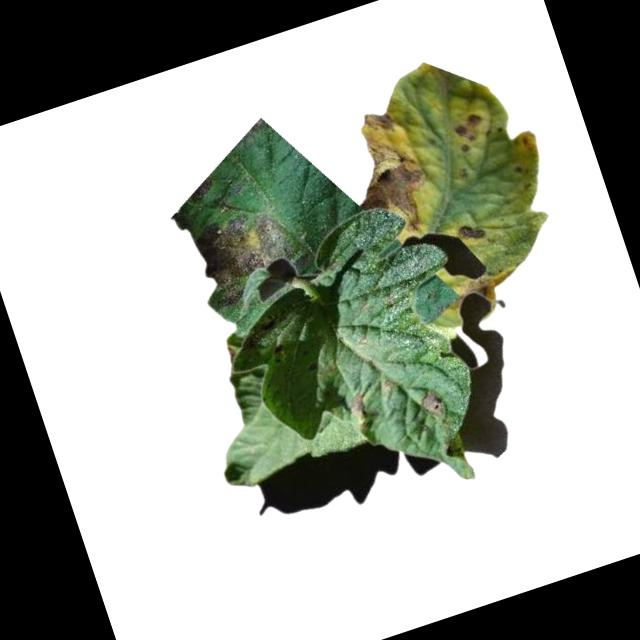Early_blight: (333, 102, 442, 245), (185, 201, 309, 310), (440, 268, 519, 317), (448, 110, 493, 156), (418, 385, 449, 423), (344, 393, 373, 428), (455, 217, 488, 246), (223, 346, 238, 367)
